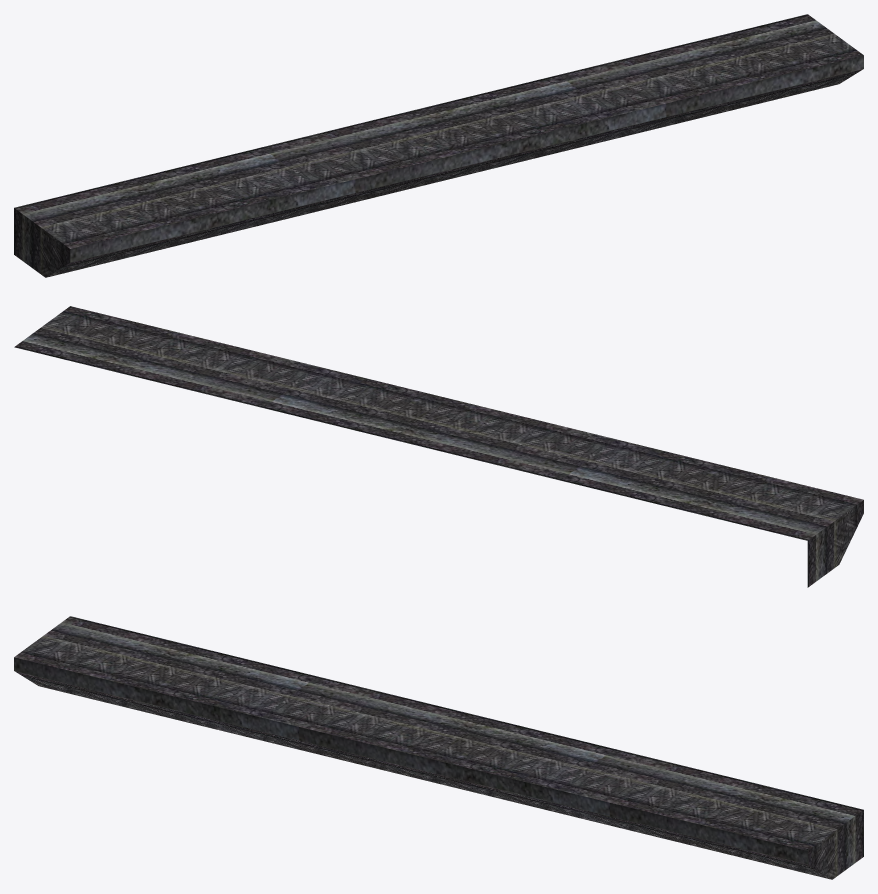
The picture shows the model from 3 angles, top to bottom: view 1: azimuth 30°, elevation 25°; view 2: azimuth 150°, elevation 25°; view 3: azimuth 330°, elevation 25°; orthographic projection.
Visible parts, largest first — view 1: model_Object40; view 2: model_Object40; view 3: model_Object40.
Boxes of the visible parts, x1,y1,x2,y2 form: model_Object40: [14, 14, 863, 277]; model_Object40: [14, 306, 863, 587]; model_Object40: [14, 616, 863, 879].
Bounding box in the file's own units: 7.02 × 0.3971 × 0.8625.
1 material, 1 textured.
